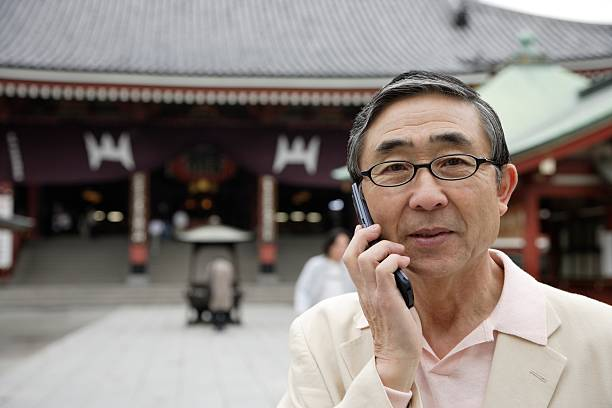phone: (346, 182, 423, 307)
talk: (331, 126, 501, 364)
